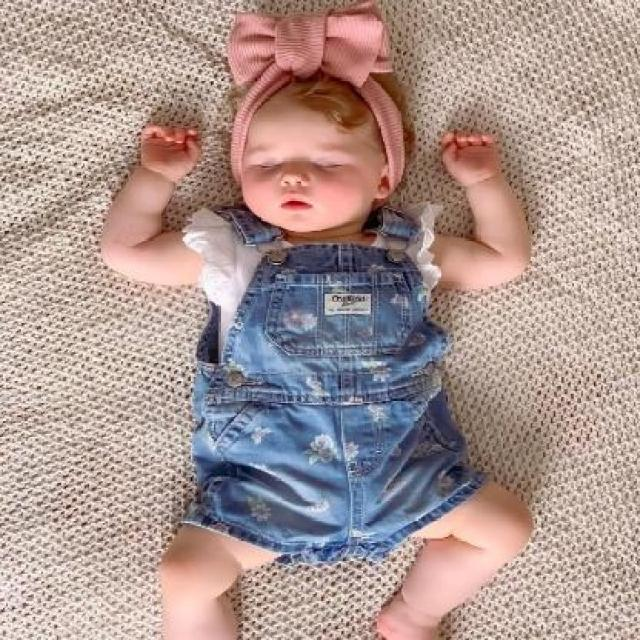baby: (96, 0, 532, 638)
